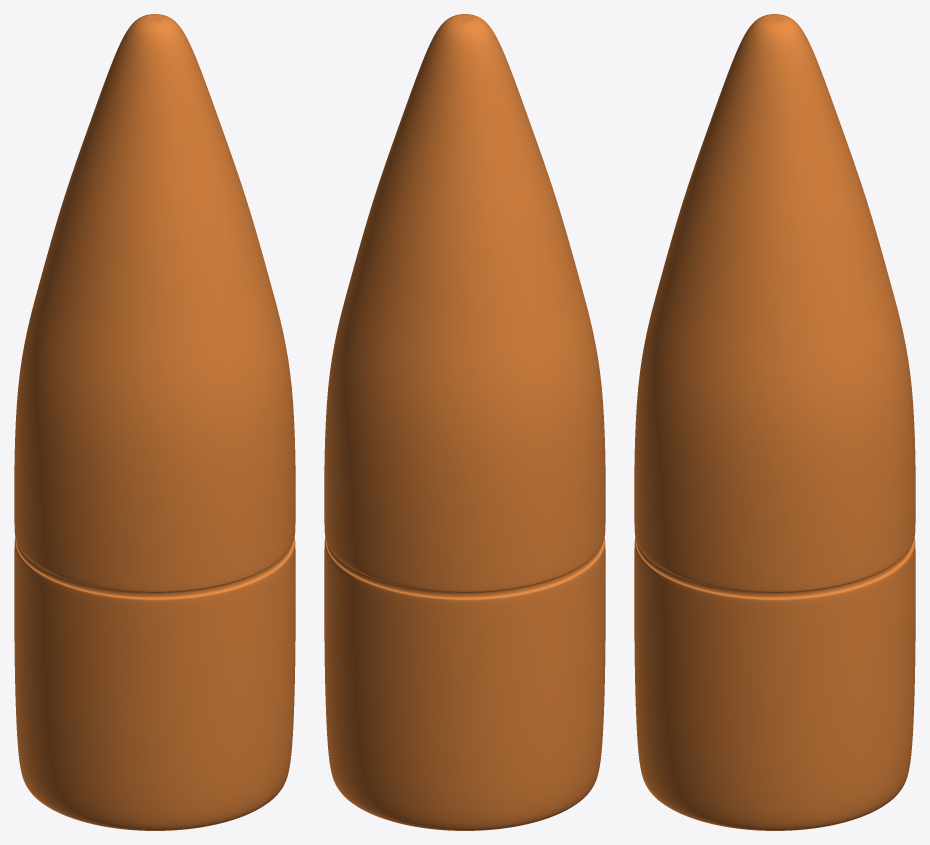
The model's file is Bullet.fbx.
3 views of the same model, side by side, from view 1: azimuth 30°, elevation 25°; view 2: azimuth 150°, elevation 25°; view 3: azimuth 270°, elevation 25° (orthographic).
Visible parts, largest first — view 1: Bullet; view 2: Bullet; view 3: Bullet.
Boxes of the visible parts, x1,y1,x2,y2 form: Bullet: (14, 14, 295, 830); Bullet: (324, 14, 605, 830); Bullet: (634, 14, 915, 830).
Size of the model in its own units: 106 by 106 by 315.
